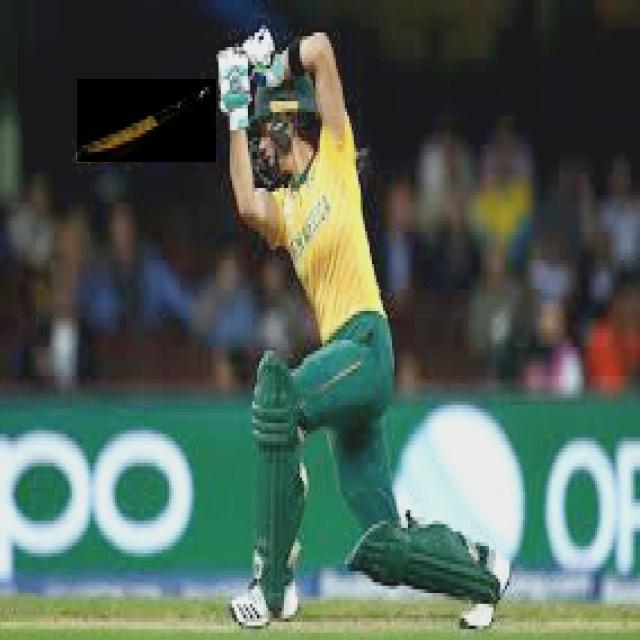bat: (74, 69, 242, 163)
toe: (82, 138, 118, 160)
